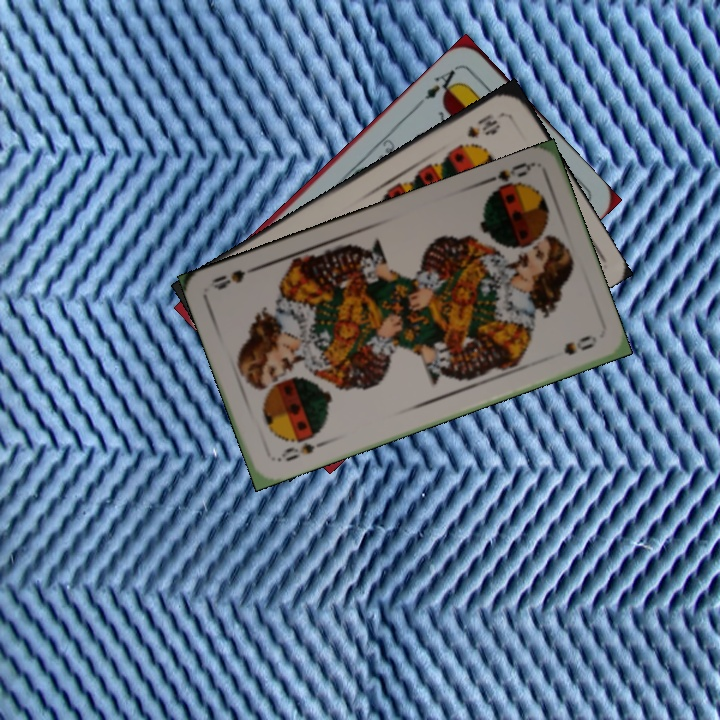EA: (420, 62, 463, 103)
S10: (463, 109, 506, 141)
SO: (478, 158, 536, 199), (273, 431, 329, 465)
